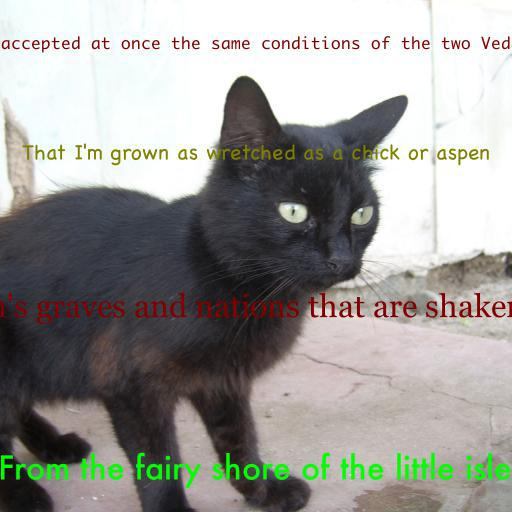Chalkboard: (22, 143, 490, 166)
Futura: (0, 452, 512, 488)
Georgia: (0, 292, 512, 325)
Monaco: (0, 36, 512, 53)
